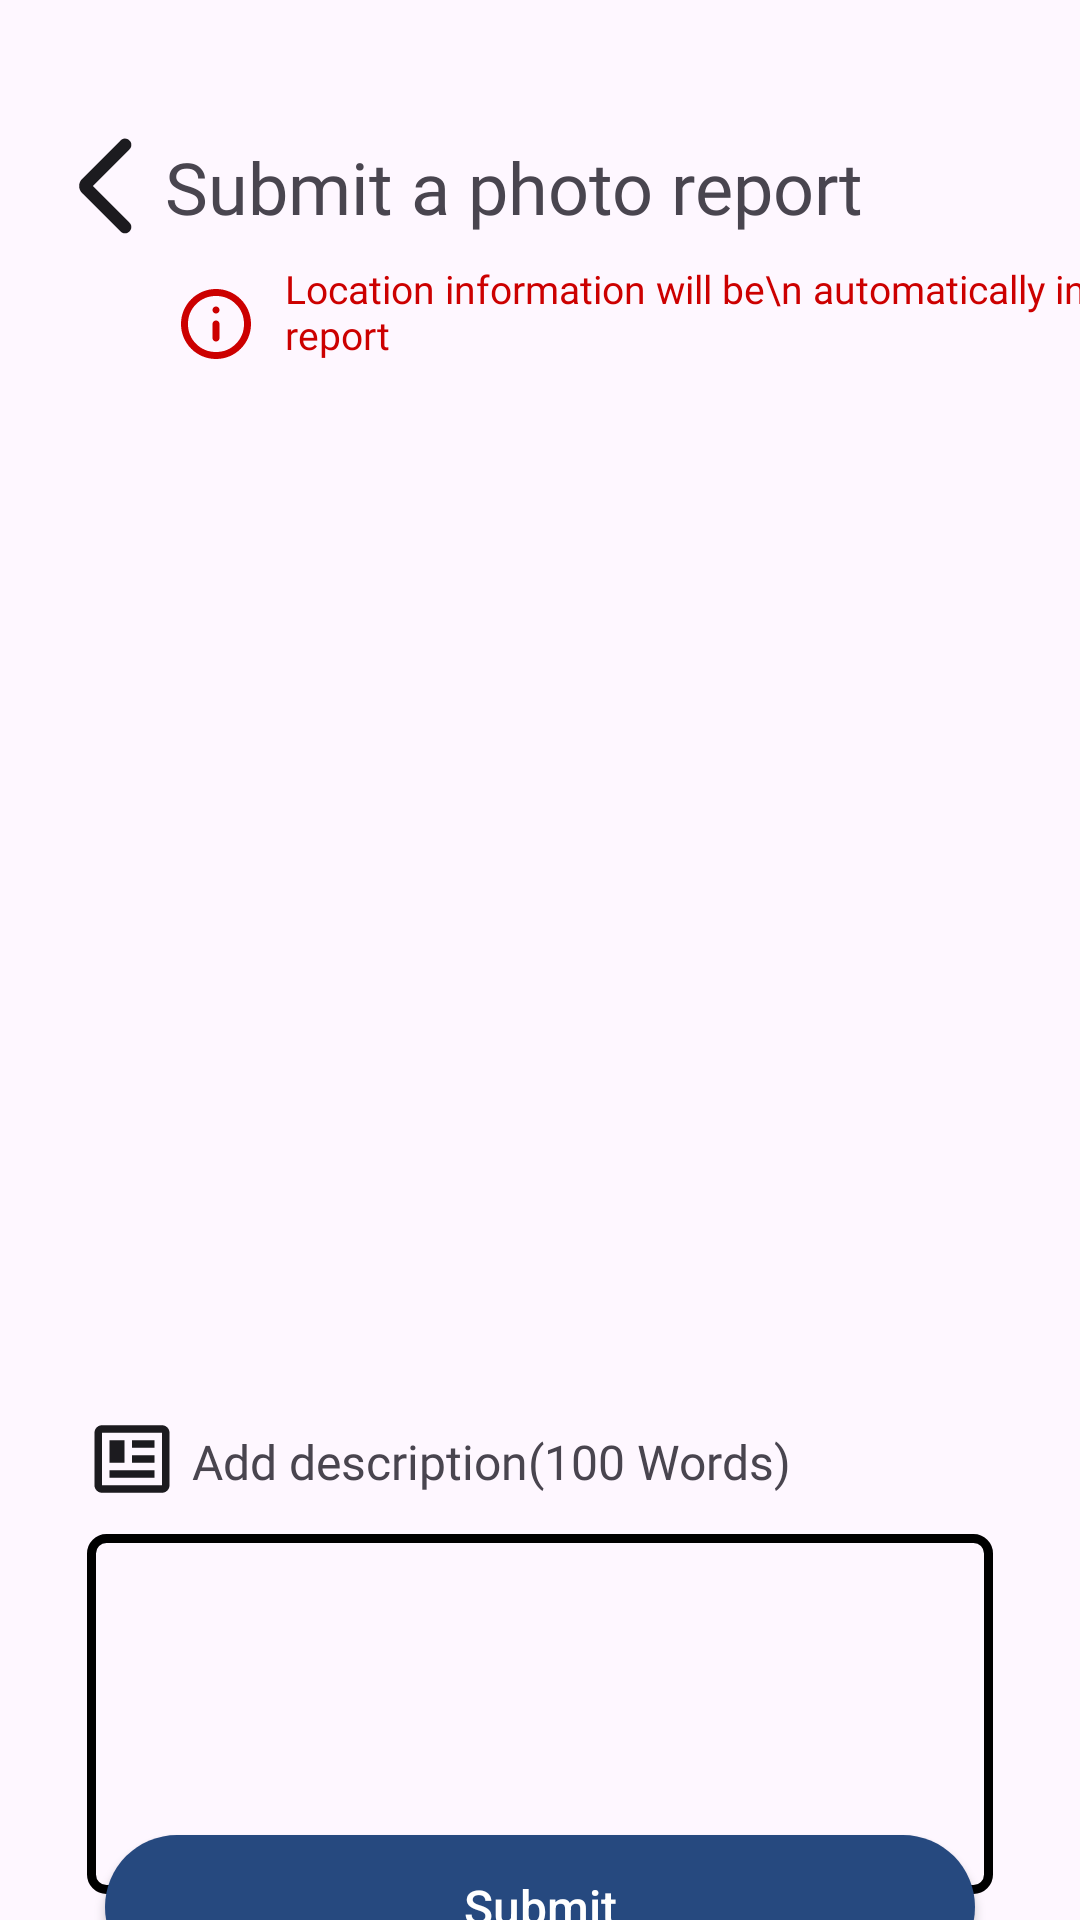

Icons on this 1080 x 1920 Android screen, each with its box as (x1, y1, x2, y2):
arrow back: (79, 138, 132, 234)
newsmode: (94, 1425, 170, 1493)
